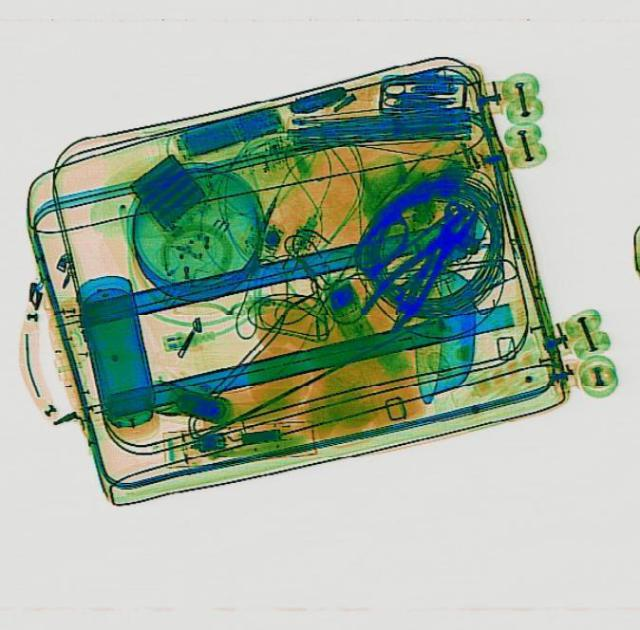Pliers: (355, 196, 489, 336)
